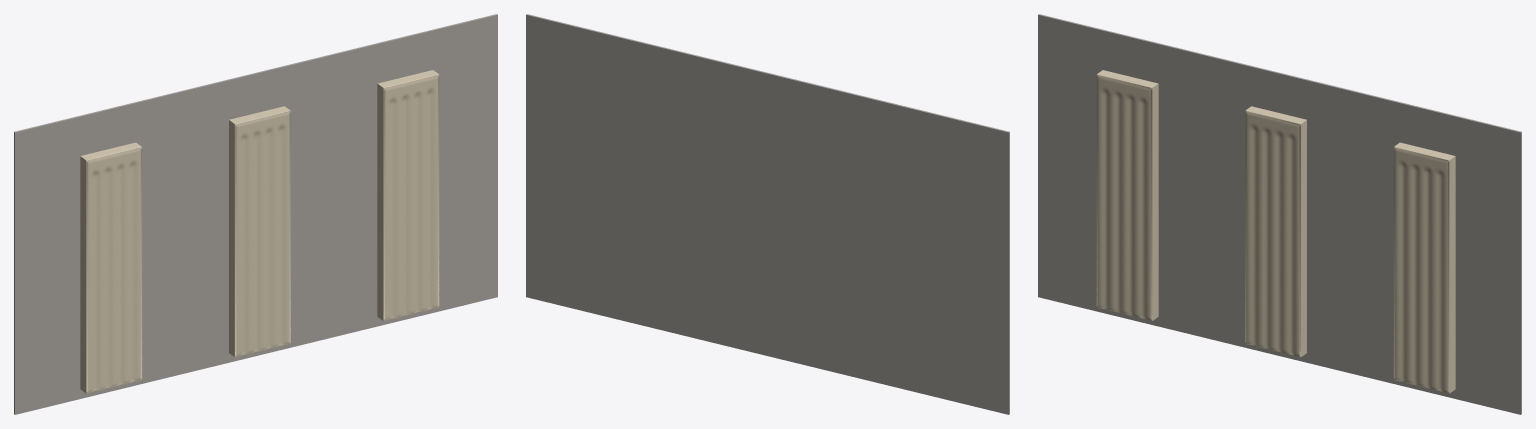
The model's file is terilgan.glb.
3 renders of one model, left to right at view 1: azimuth 30°, elevation 25°; view 2: azimuth 150°, elevation 25°; view 3: azimuth 330°, elevation 25°, orthographic.
Visible parts, largest first — view 1: Devor, t2, t0, t1; view 2: Devor; view 3: Devor, t0, t2, t1.
Part boxes in pixels (x1,y1,x2,y2): Devor: (14, 14, 497, 414); t2: (377, 70, 439, 320); t0: (80, 142, 142, 393); t1: (229, 106, 290, 357); Devor: (526, 14, 1009, 414); Devor: (1038, 14, 1521, 414); t0: (1096, 70, 1158, 320); t2: (1393, 142, 1455, 393); t1: (1245, 106, 1306, 357).
Bounding box in the file's own units: 2.6 × 1.45 × 0.0719.
